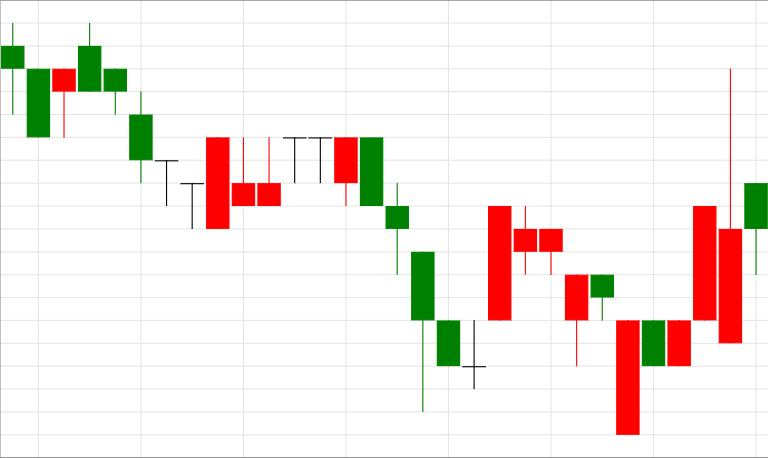morning_star_rise: (359, 138, 512, 413)
